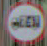Heavy Vehicles: (6, 1, 46, 42)
